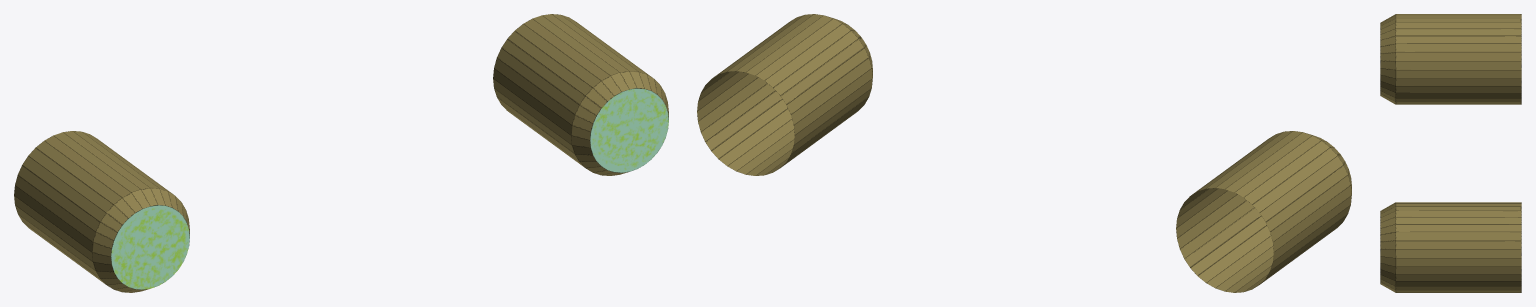
The model's file is truck3_light.obj.
The picture shows the model from 3 angles, left to right: view 1: azimuth 30°, elevation 25°; view 2: azimuth 150°, elevation 25°; view 3: azimuth 270°, elevation 25°; orthographic projection. The views are drawn at different scales.
Visible parts, largest first — view 1: headlights_Cylinder; view 2: headlights_Cylinder; view 3: headlights_Cylinder.
Boxes of the visible parts, <box> form: headlights_Cylinder: <box>14,14,668,292</box>; headlights_Cylinder: <box>697,14,1351,292</box>; headlights_Cylinder: <box>1380,14,1521,292</box>.
Size of the model in its own units: 0.9312 by 0.1578 by 0.2451.
1 material, 1 textured.
